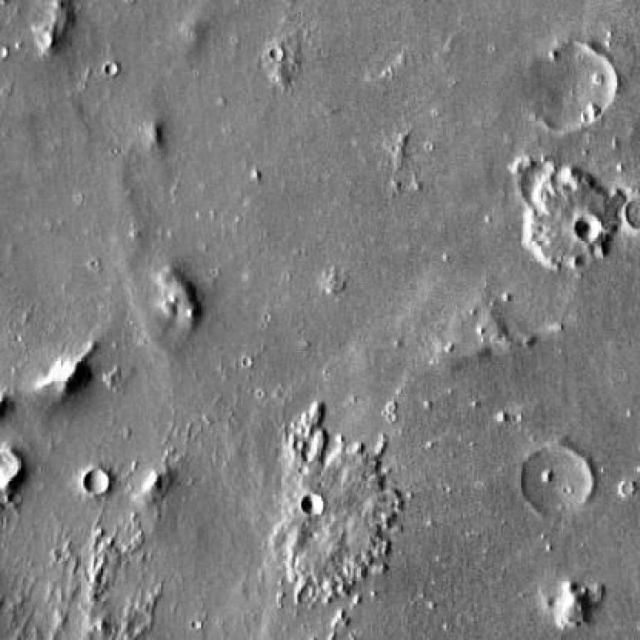crater: (536, 44, 626, 131), (524, 448, 596, 518), (574, 214, 601, 240), (0, 452, 23, 480), (84, 471, 104, 491), (303, 495, 322, 514)
